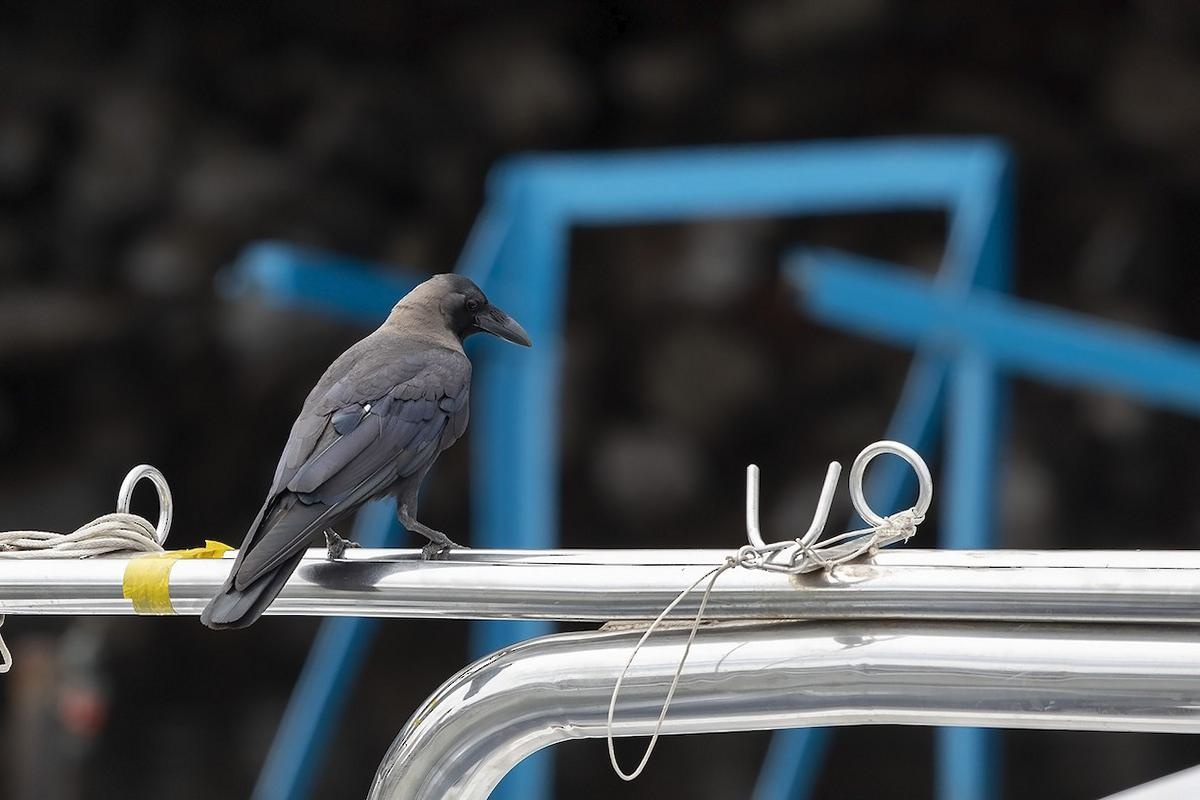crow: (187, 257, 550, 696)
